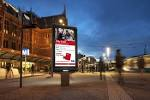board: (50, 22, 79, 86)
